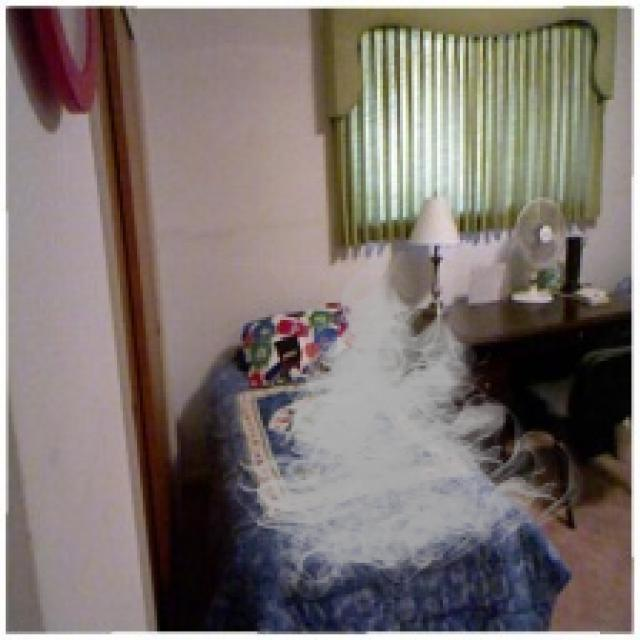Smoke: (222, 252, 588, 608)
